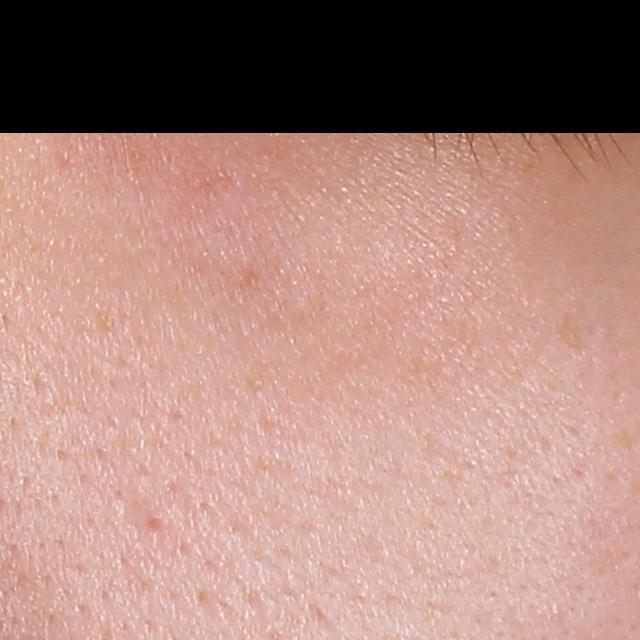melasma: (551, 311, 585, 354)
